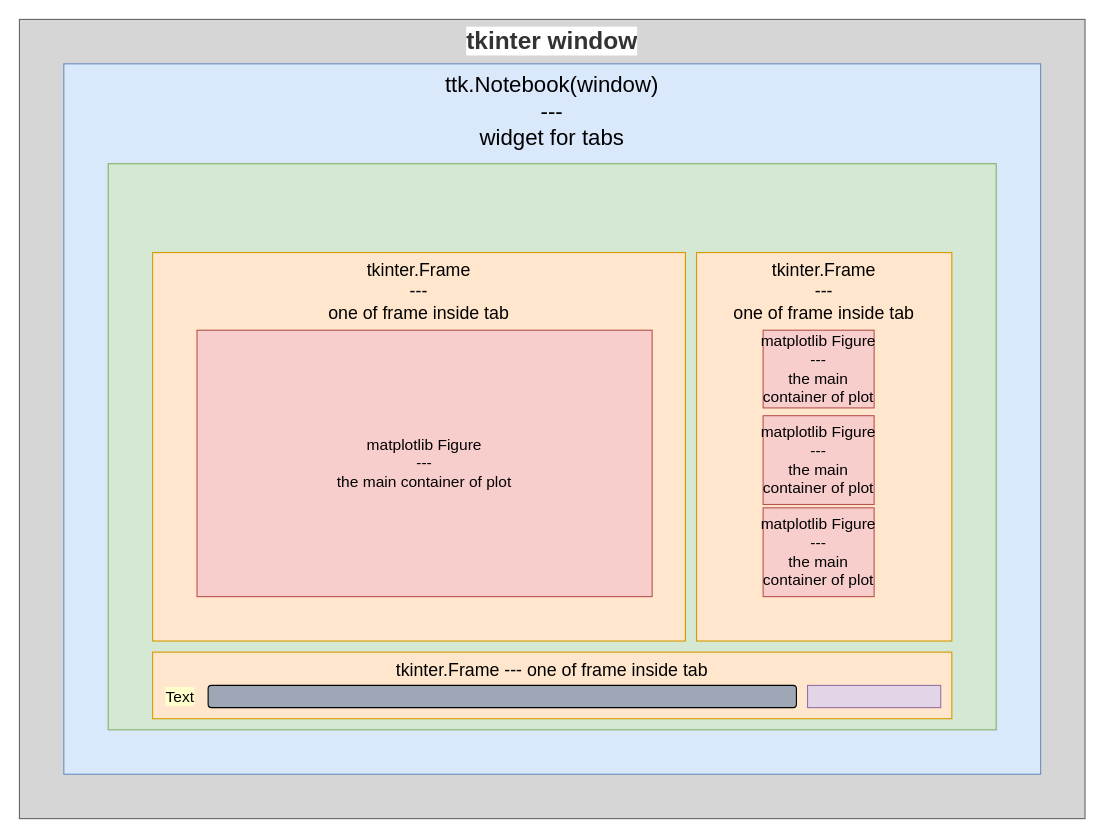
This 1104x838 diagram has some shape labels left out. Each missing label, with the box of its shape:
Button: (806, 684, 941, 708)
ttk.Frame() --- tab: (107, 163, 996, 730)
